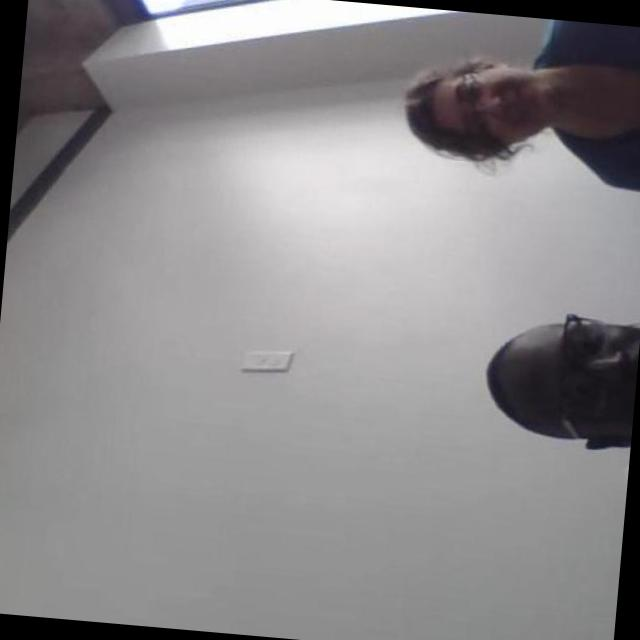bareface: (404, 54, 550, 166)
